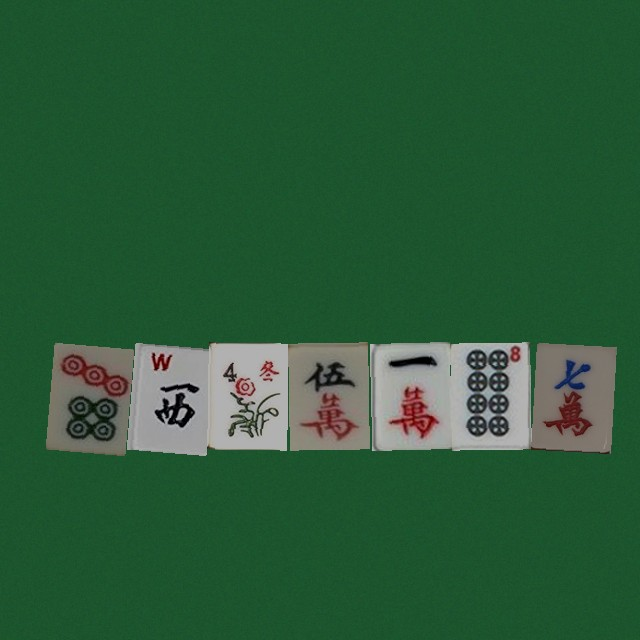tile: (45, 342, 125, 449), (126, 342, 206, 449), (207, 342, 287, 449), (288, 342, 368, 449), (369, 342, 449, 449), (450, 342, 530, 449), (531, 342, 611, 449)
